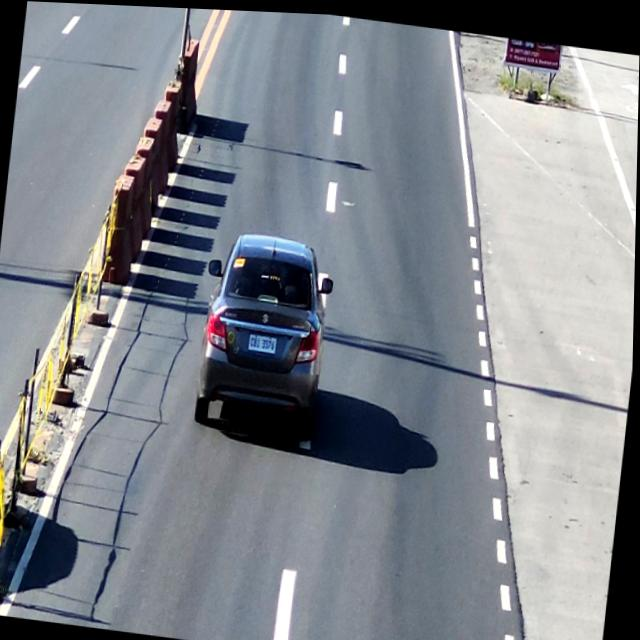Car: (191, 222, 343, 441)
License-Plate: (244, 326, 280, 354)
